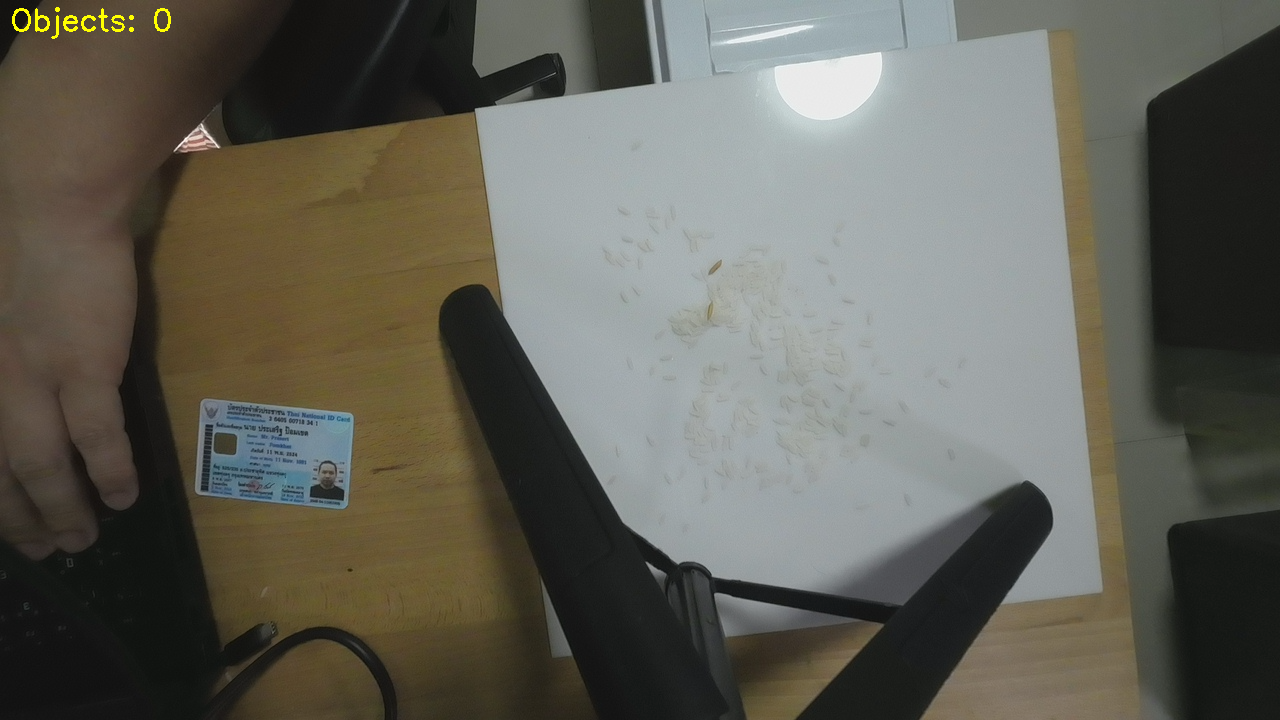paddy: (705, 257, 724, 277), (705, 299, 715, 322)
